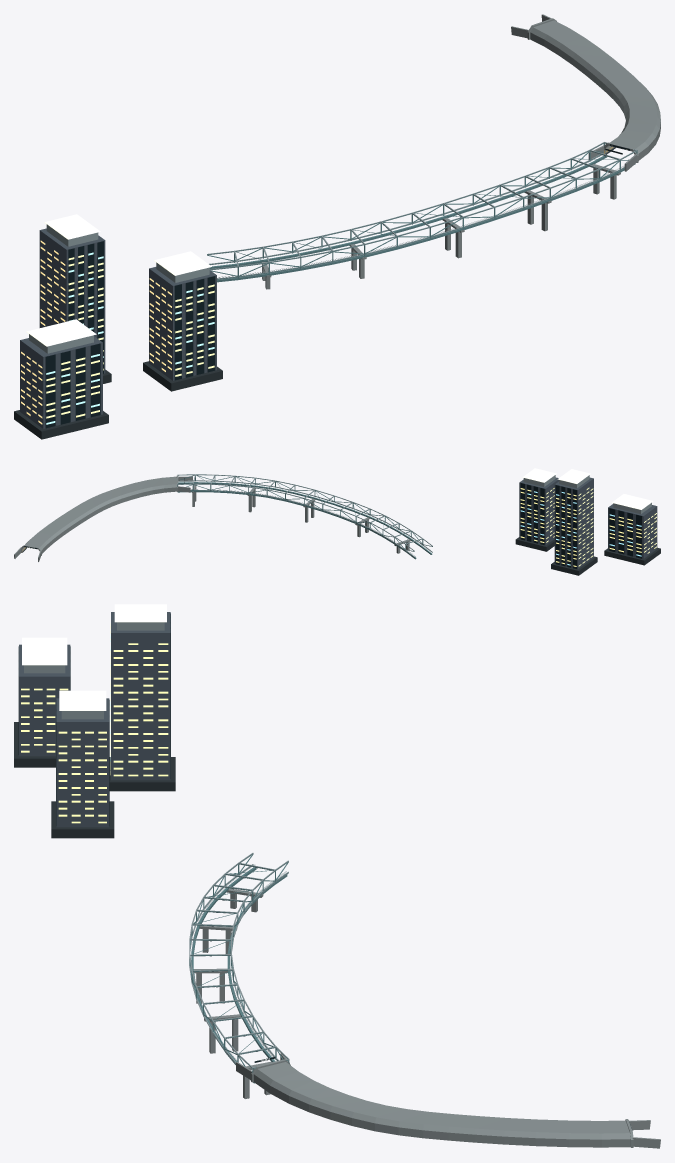
The model's file is blackglass-rivergate.glb.
3 renders of one model, top to bottom at view 1: azimuth 30°, elevation 25°; view 2: azimuth 150°, elevation 25°; view 3: azimuth 270°, elevation 25°, orthographic. The views are drawn at different scales.
Parts seen in each view (by area): view 1: rivergate-backdrop-skyline-stone, rivergate-backdrop-sign-ink, rivergate-backdrop-window-warm, rivergate-backdrop-lamp-warm, rivergate-backdrop-recess, bridge-span-02-bridge-steel, bridge-span-03-bridge-steel, tunnel-bay-00-limestone, bridge-span-01-bridge-steel, tunnel-bay-01-limestone, bridge-span-04-bridge-steel, rivergate-backdrop-edge-metal (+9 smaller); view 2: rivergate-backdrop-skyline-stone, rivergate-backdrop-sign-ink, rivergate-backdrop-window-warm, rivergate-backdrop-recess, rivergate-backdrop-lamp-warm, bridge-span-02-bridge-steel, bridge-span-01-bridge-steel, tunnel-bay-04-limestone, tunnel-bay-01-limestone, tunnel-bay-00-limestone, bridge-span-00-bridge-steel, bridge-span-03-bridge-steel (+10 smaller); view 3: rivergate-backdrop-skyline-stone, rivergate-backdrop-lamp-warm, rivergate-backdrop-window-warm, rivergate-backdrop-recess, tunnel-bay-00-limestone, tunnel-bay-01-limestone, tunnel-bay-04-limestone, tunnel-bay-02-limestone, tunnel-bay-03-limestone, rivergate-backdrop-edge-metal, bridge-span-04-bridge-steel.
Boxes of the visible parts, bbox=[...] form: rivergate-backdrop-skyline-stone: bbox=[20, 228, 216, 428]; rivergate-backdrop-sign-ink: bbox=[45, 241, 215, 428]; rivergate-backdrop-window-warm: bbox=[21, 240, 214, 424]; rivergate-backdrop-lamp-warm: bbox=[26, 214, 211, 346]; rivergate-backdrop-recess: bbox=[14, 361, 222, 439]; bridge-span-02-bridge-steel: bbox=[382, 194, 495, 249]; bridge-span-03-bridge-steel: bbox=[293, 222, 397, 270]; tunnel-bay-00-limestone: bbox=[530, 20, 598, 64]; bridge-span-01-bridge-steel: bbox=[474, 167, 576, 220]; tunnel-bay-01-limestone: bbox=[572, 48, 633, 91]; bridge-span-04-bridge-steel: bbox=[207, 242, 301, 282]; rivergate-backdrop-edge-metal: bbox=[29, 224, 209, 353]; rivergate-backdrop-skyline-stone: bbox=[519, 477, 657, 569]; rivergate-backdrop-sign-ink: bbox=[520, 483, 641, 568]; rivergate-backdrop-window-warm: bbox=[520, 487, 656, 566]; rivergate-backdrop-recess: bbox=[515, 537, 660, 575]; rivergate-backdrop-lamp-warm: bbox=[522, 468, 653, 509]; bridge-span-02-bridge-steel: bbox=[285, 485, 352, 517]; bridge-span-01-bridge-steel: bbox=[229, 476, 294, 501]; tunnel-bay-04-limestone: bbox=[135, 476, 176, 496]; tunnel-bay-01-limestone: bbox=[47, 508, 88, 535]; tunnel-bay-00-limestone: bbox=[22, 525, 62, 553]; bridge-span-00-bridge-steel: bbox=[177, 474, 234, 493]; bridge-span-03-bridge-steel: bbox=[340, 502, 398, 537]; rivergate-backdrop-skyline-stone: bbox=[19, 612, 170, 827]; rivergate-backdrop-lamp-warm: bbox=[22, 604, 166, 710]; rivergate-backdrop-window-warm: bbox=[21, 623, 168, 823]; rivergate-backdrop-recess: bbox=[14, 722, 175, 838]; tunnel-bay-00-limestone: bbox=[536, 1119, 630, 1147]; tunnel-bay-01-limestone: bbox=[448, 1114, 537, 1145]; tunnel-bay-04-limestone: bbox=[253, 1062, 329, 1111]; tunnel-bay-02-limestone: bbox=[375, 1105, 452, 1140]; tunnel-bay-03-limestone: bbox=[309, 1088, 386, 1131]; rivergate-backdrop-edge-metal: bbox=[24, 622, 164, 719]; bridge-span-04-bridge-steel: bbox=[213, 853, 288, 905].
Size of the model in its own units: 615 by 111 by 390.
